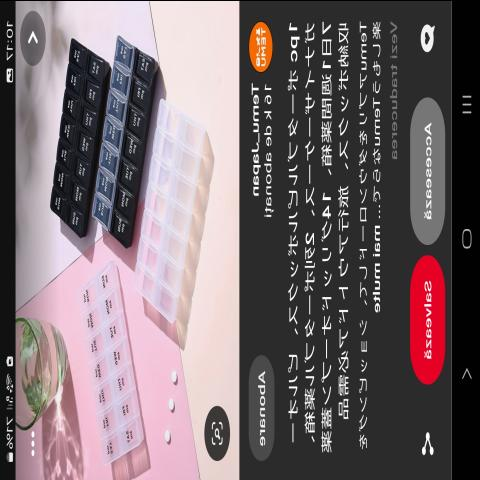PillBox: (90, 17, 154, 259), (47, 38, 98, 274)
